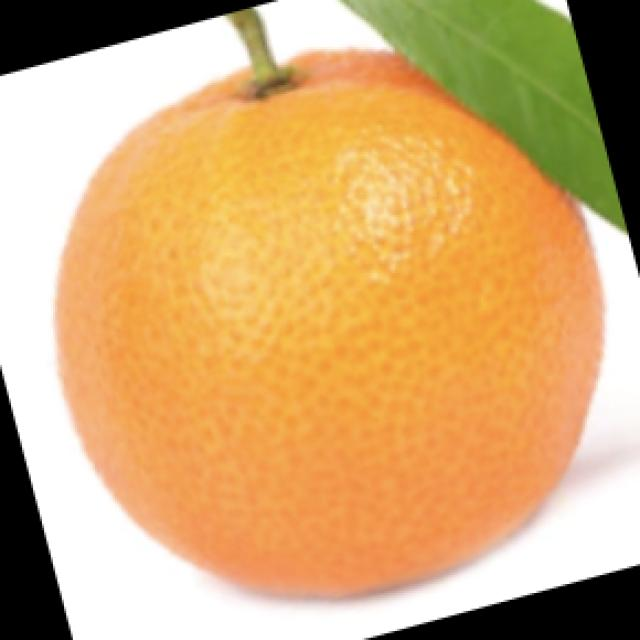matang: (55, 45, 605, 605)
